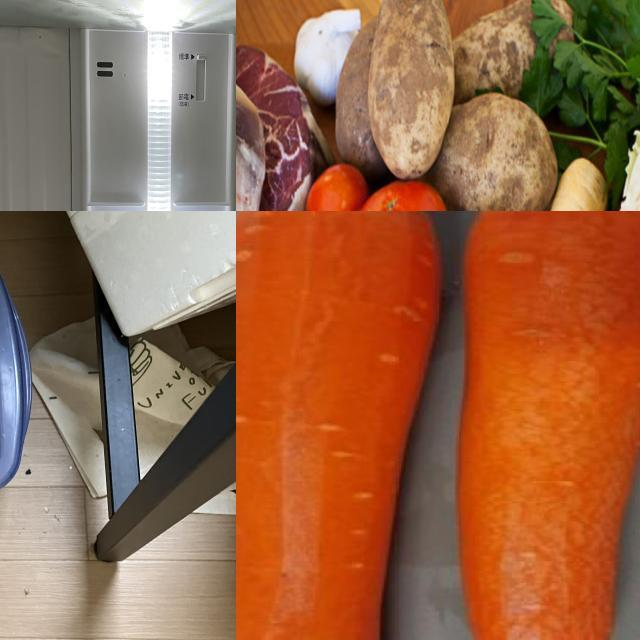carrot: (237, 212, 448, 640), (455, 212, 640, 640)
garlic: (297, 10, 353, 98)
potato: (438, 92, 549, 212), (379, 1, 445, 182), (451, 1, 582, 92), (341, 13, 385, 165)
tomato: (359, 176, 448, 212), (311, 158, 360, 212)
